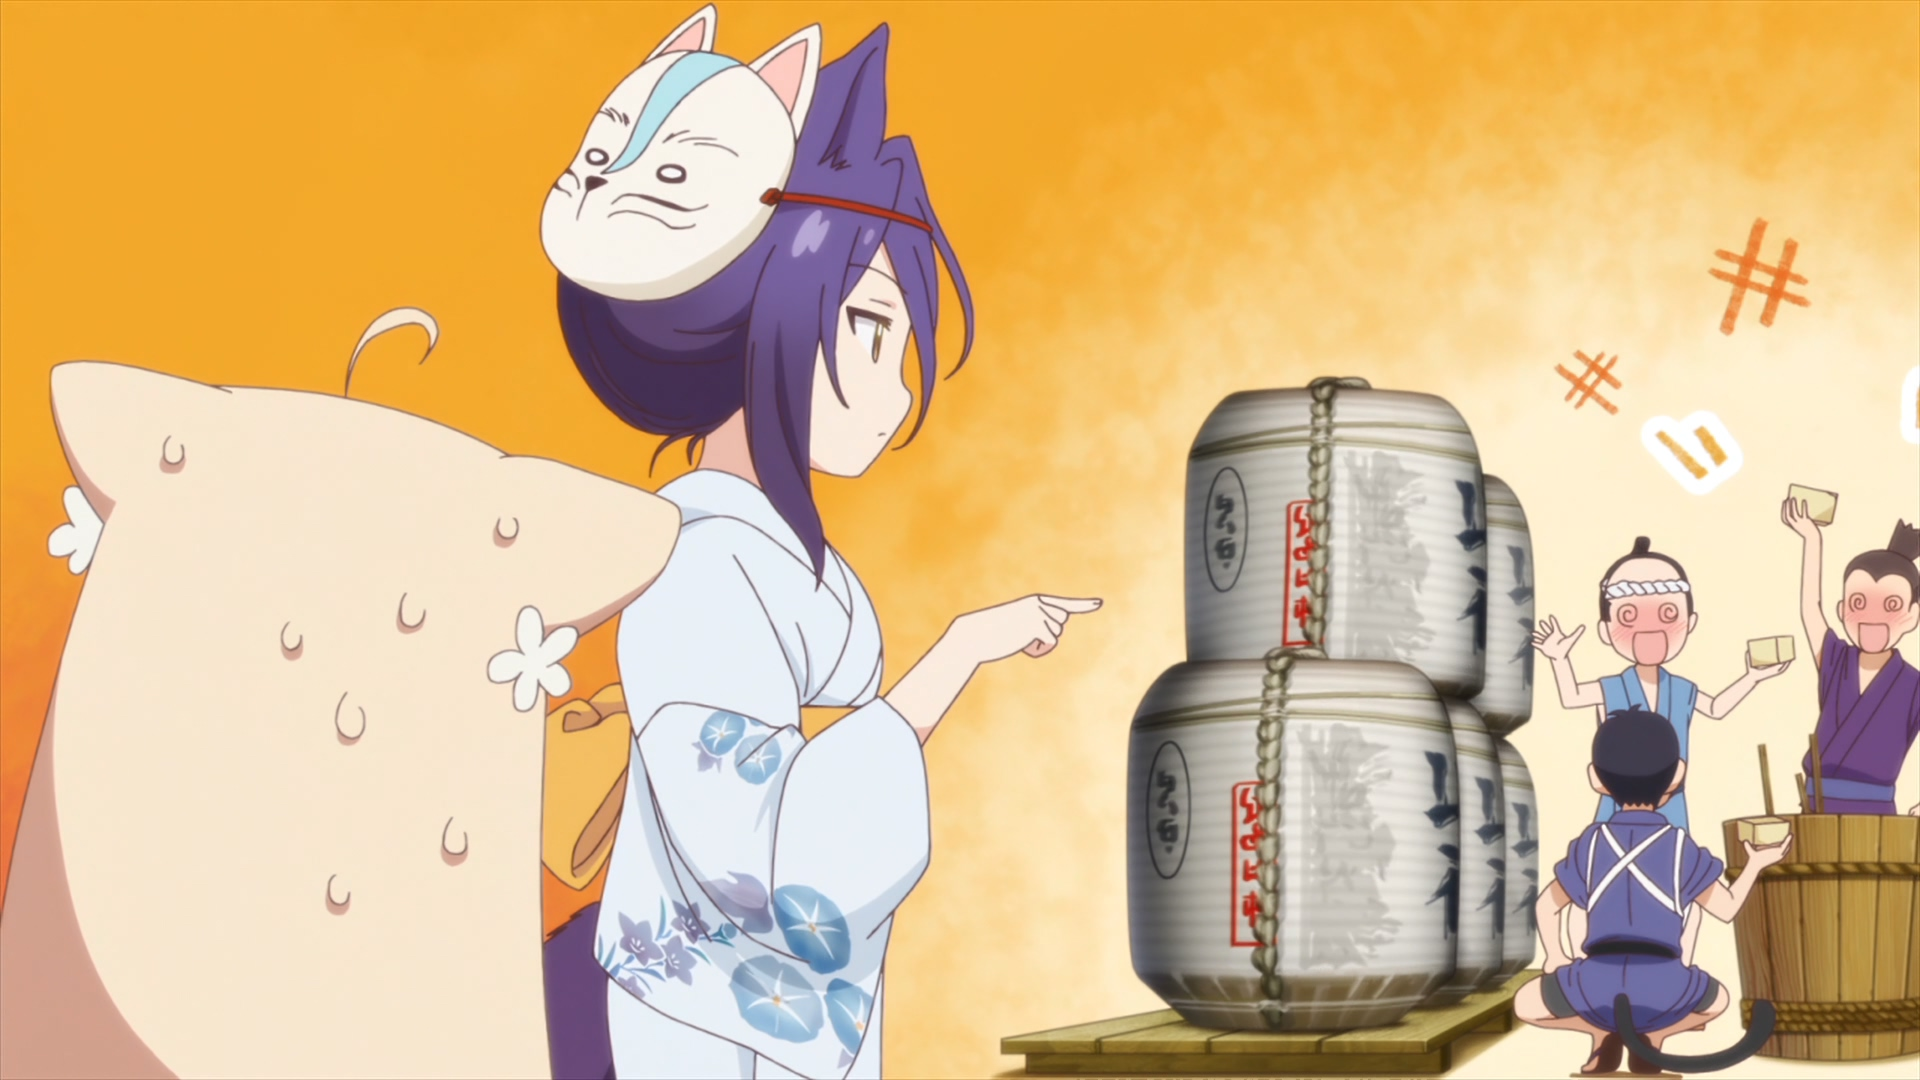其他: (1534, 535, 1792, 1029), (1513, 703, 1792, 1080), (1782, 496, 1920, 816)
柚: (1, 305, 680, 1080)
皋: (538, 3, 1104, 1080)
